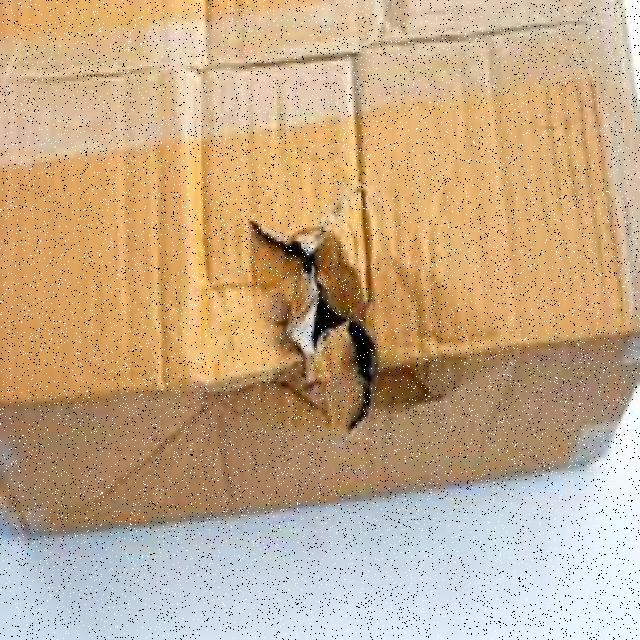defect: (4, 1, 640, 538)
